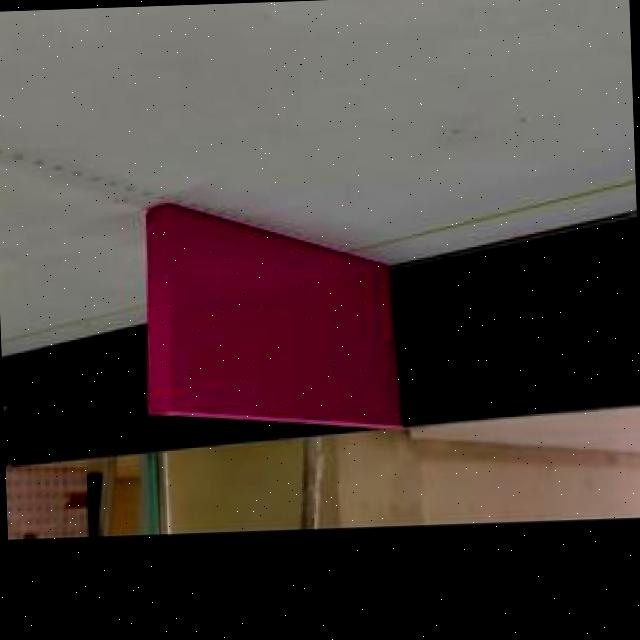xparking: (144, 224, 396, 406)
